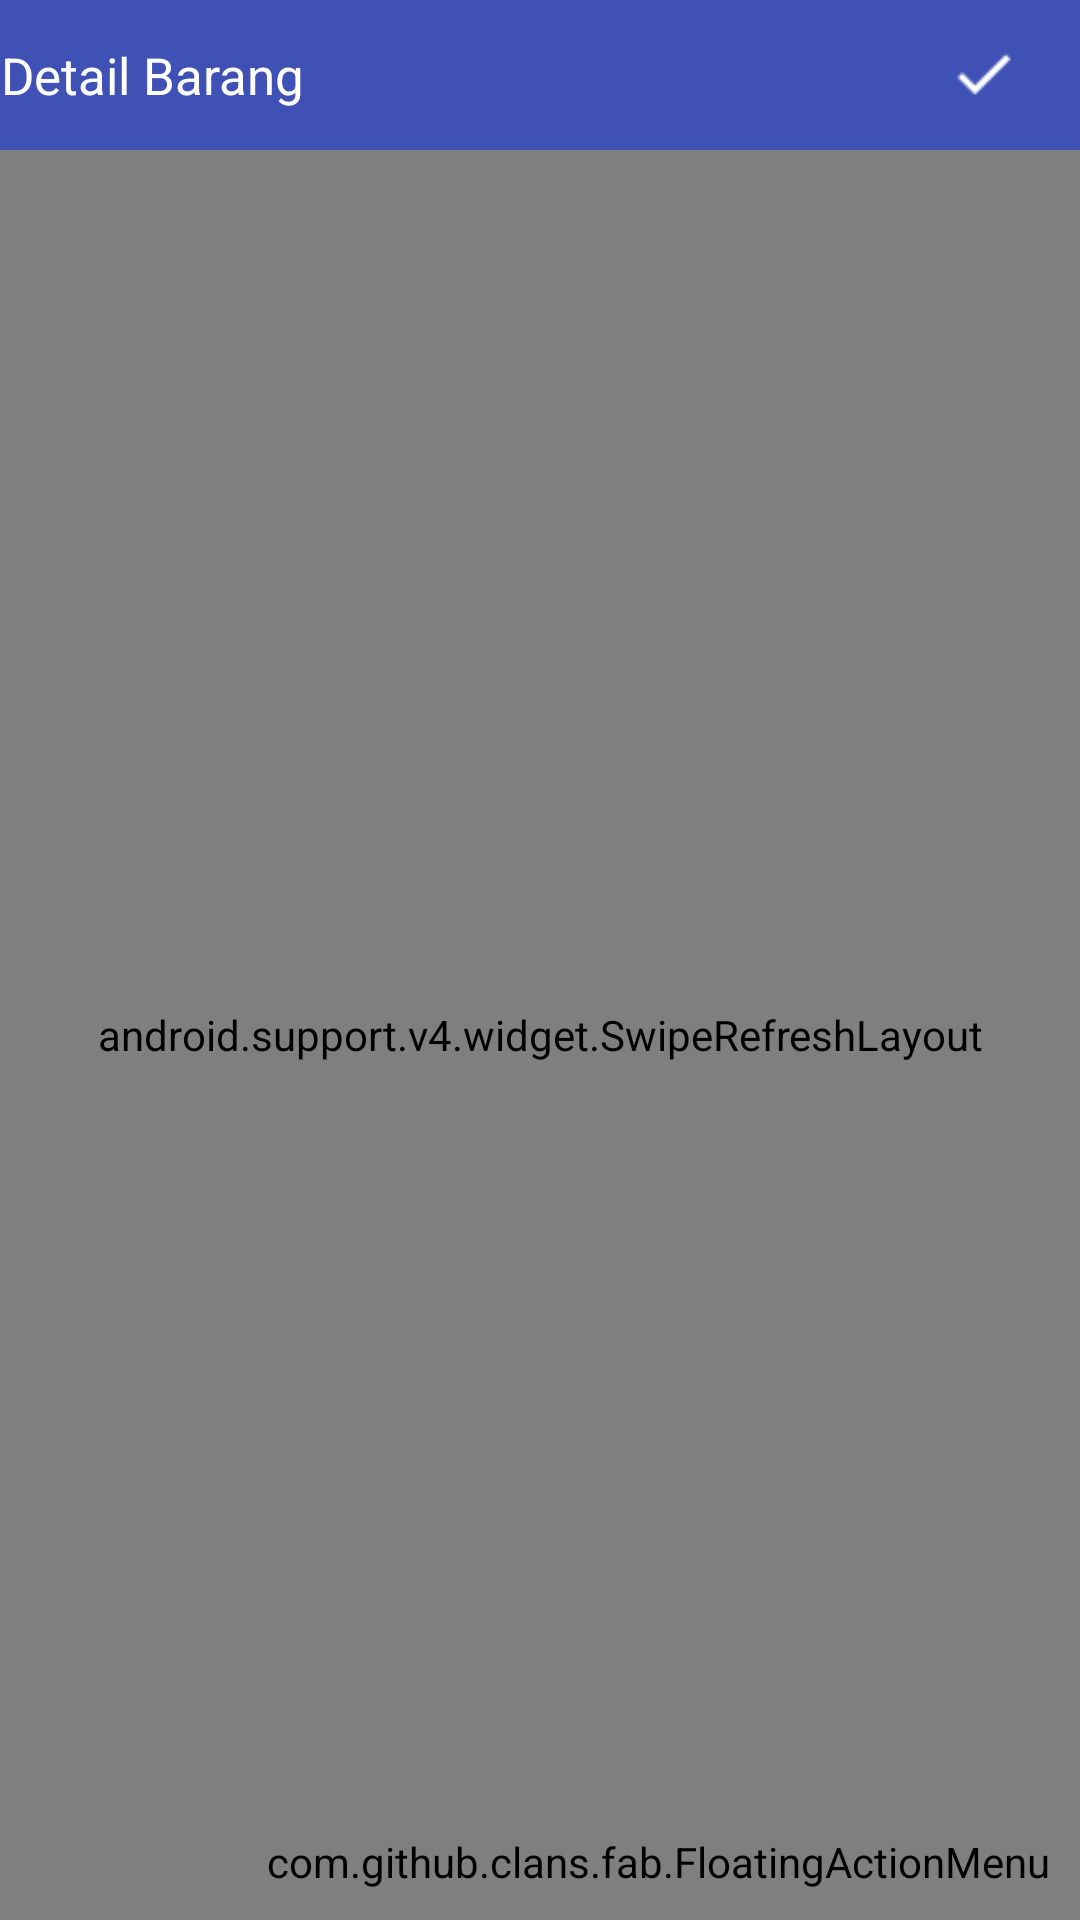

Icons on this 1080px x 1920px Android screen, each with its box as bbox=[x1, y1, x2, y2]:
check: bbox=[957, 54, 1011, 95]
